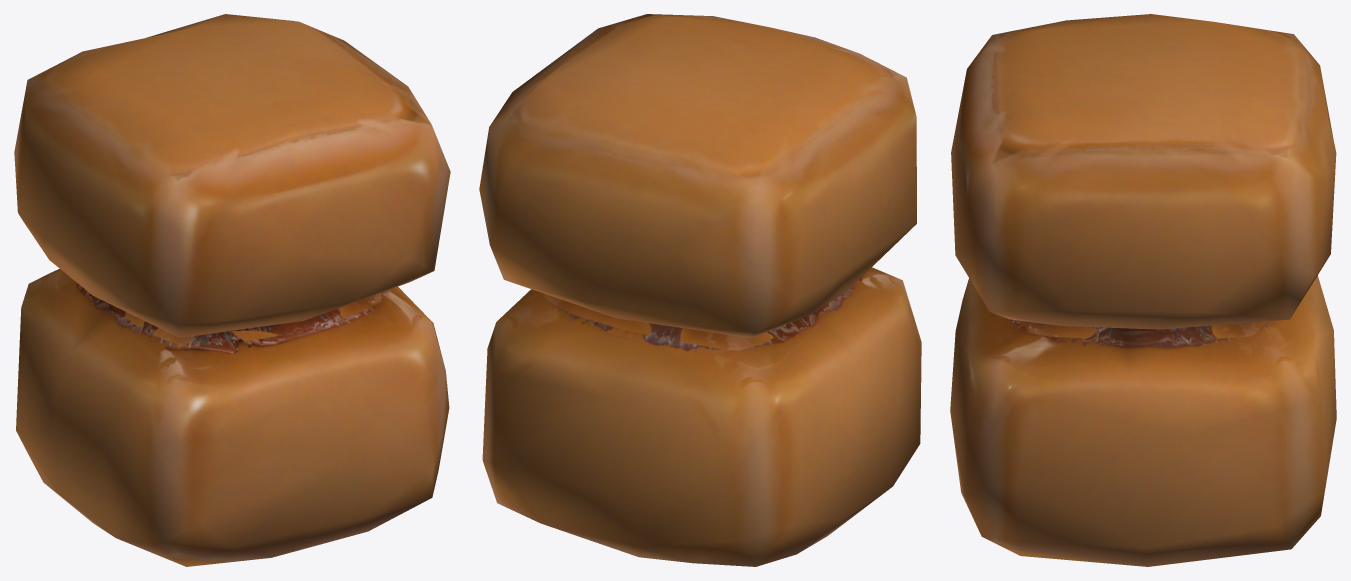
Rendered from Caramel_Delight_1007141143_texture.fbx.
3 views of the same model, side by side, from view 1: azimuth 30°, elevation 25°; view 2: azimuth 150°, elevation 25°; view 3: azimuth 270°, elevation 25° (orthographic). The views are drawn at different scales.
Visible parts, largest first — view 1: Mesh1.0; view 2: Mesh1.0; view 3: Mesh1.0.
Boxes of the visible parts, x1,y1,x2,y2 form: Mesh1.0: [14, 14, 450, 566]; Mesh1.0: [479, 14, 921, 566]; Mesh1.0: [950, 14, 1336, 566].
Size of the model in its own units: 151 by 191 by 151.
Materials: 1 (1 with a texture image).
